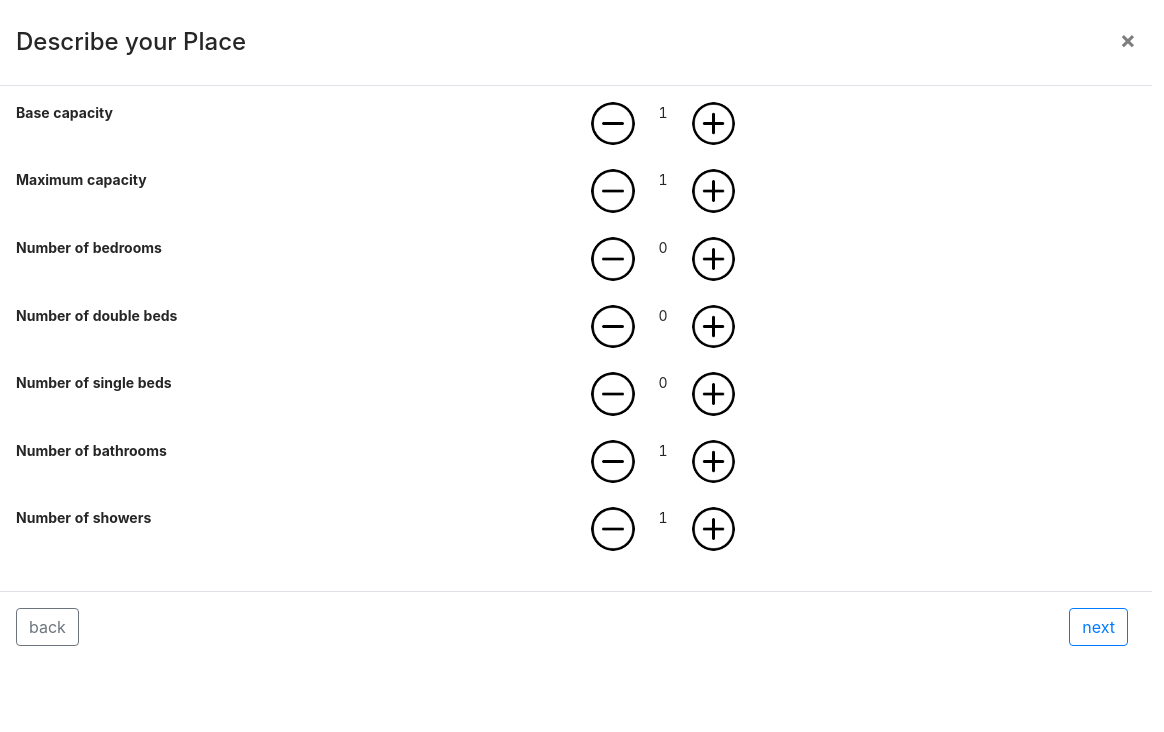
Maximum Capacity counter increments
Click the picture with test id "mCapPlus" at point(714, 191), box [692,169,735,213]
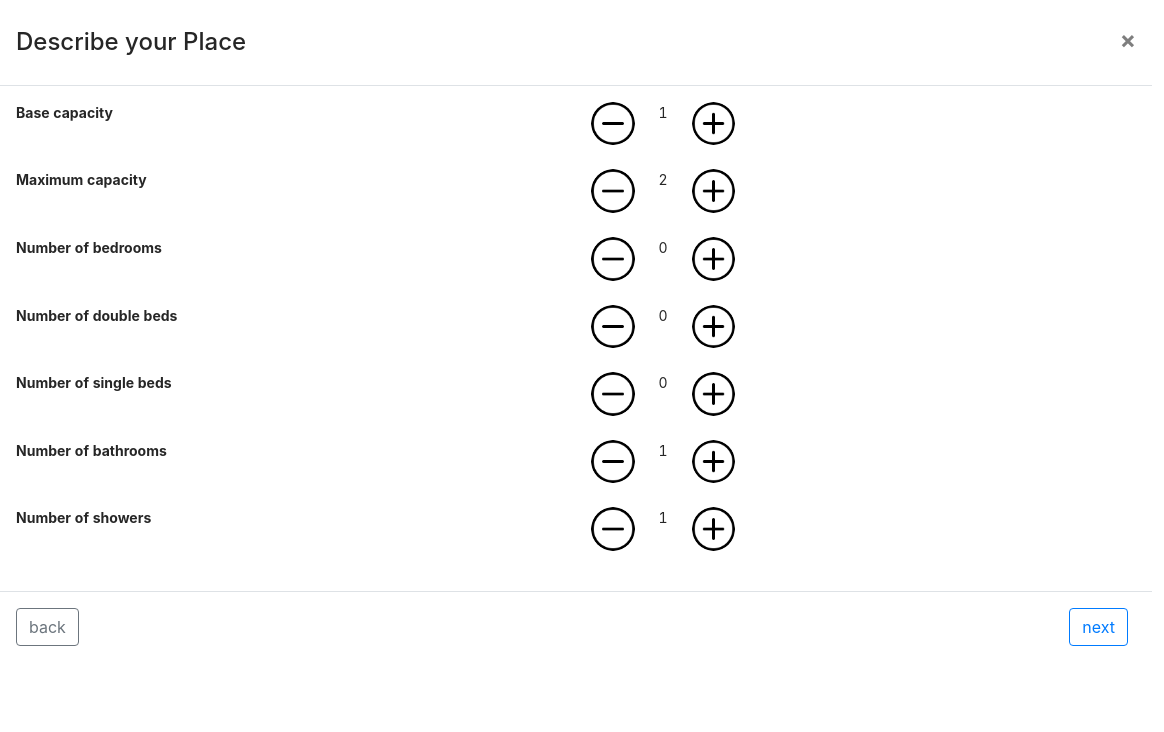
Check: the text with test id "amentities-maxCapacity" reads "2", box [659,171,668,188]
